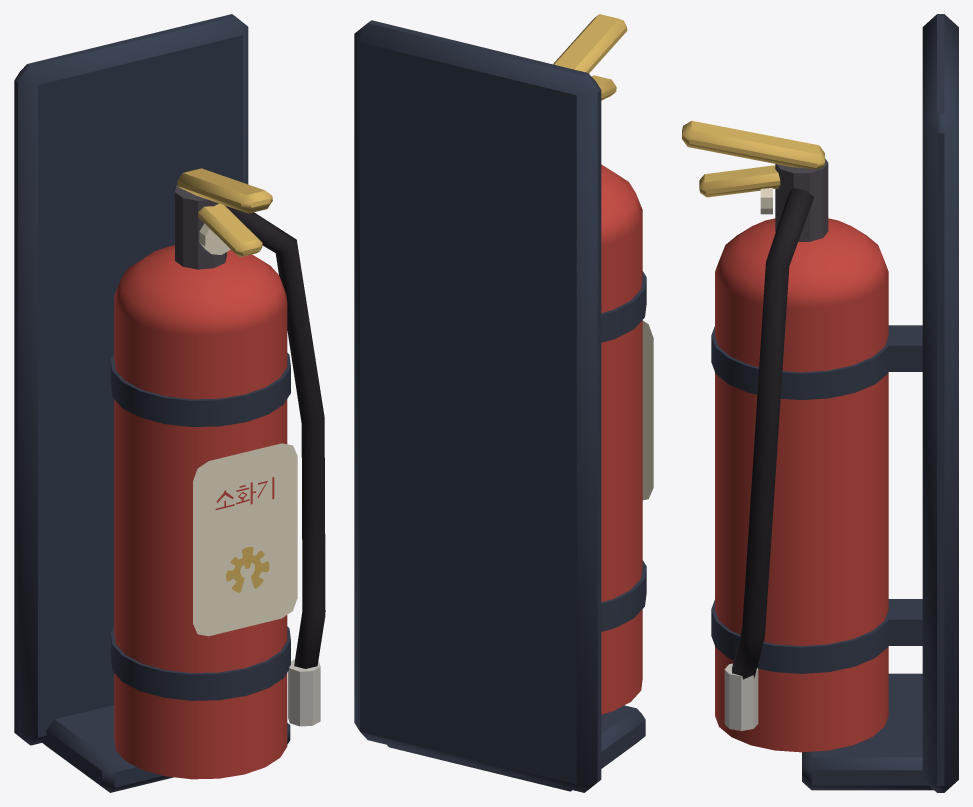
Rendered from ship_extinguisher.glb.
3 views of the same model, side by side, from view 1: azimuth 30°, elevation 25°; view 2: azimuth 150°, elevation 25°; view 3: azimuth 270°, elevation 25° (orthographic). The views are drawn at different scales.
Visible parts, largest first — view 1: ship_extinguisher_vcd, ship_extinguisher_vc, ship_extinguisher_vc_fine, ship_extinguisher_vcd_detail, ship_extinguisher_vc_detail; view 2: ship_extinguisher_vcd, ship_extinguisher_vc, ship_extinguisher_vcd_detail, ship_extinguisher_vc_detail, ship_extinguisher_vc_fine; view 3: ship_extinguisher_vc, ship_extinguisher_vcd, ship_extinguisher_vcd_detail, ship_extinguisher_vc_detail.
Boxes of the visible parts, x1,y1,x2,y2 form: ship_extinguisher_vcd: (14,14,325,792); ship_extinguisher_vc: (114,245,287,779); ship_extinguisher_vc_fine: (193,443,297,636); ship_extinguisher_vcd_detail: (110,353,290,700); ship_extinguisher_vc_detail: (177,168,320,726); ship_extinguisher_vcd: (354,20,645,792); ship_extinguisher_vc: (601,164,642,714); ship_extinguisher_vcd_detail: (601,271,646,631); ship_extinguisher_vc_detail: (553,14,627,100); ship_extinguisher_vc_fine: (642,320,653,500); ship_extinguisher_vc: (715,218,888,752); ship_extinguisher_vcd: (732,14,958,792); ship_extinguisher_vcd_detail: (711,325,922,673); ship_extinguisher_vc_detail: (682,120,824,730).
Bounding box in the file's own units: 0.22 × 0.625 × 0.2291.
